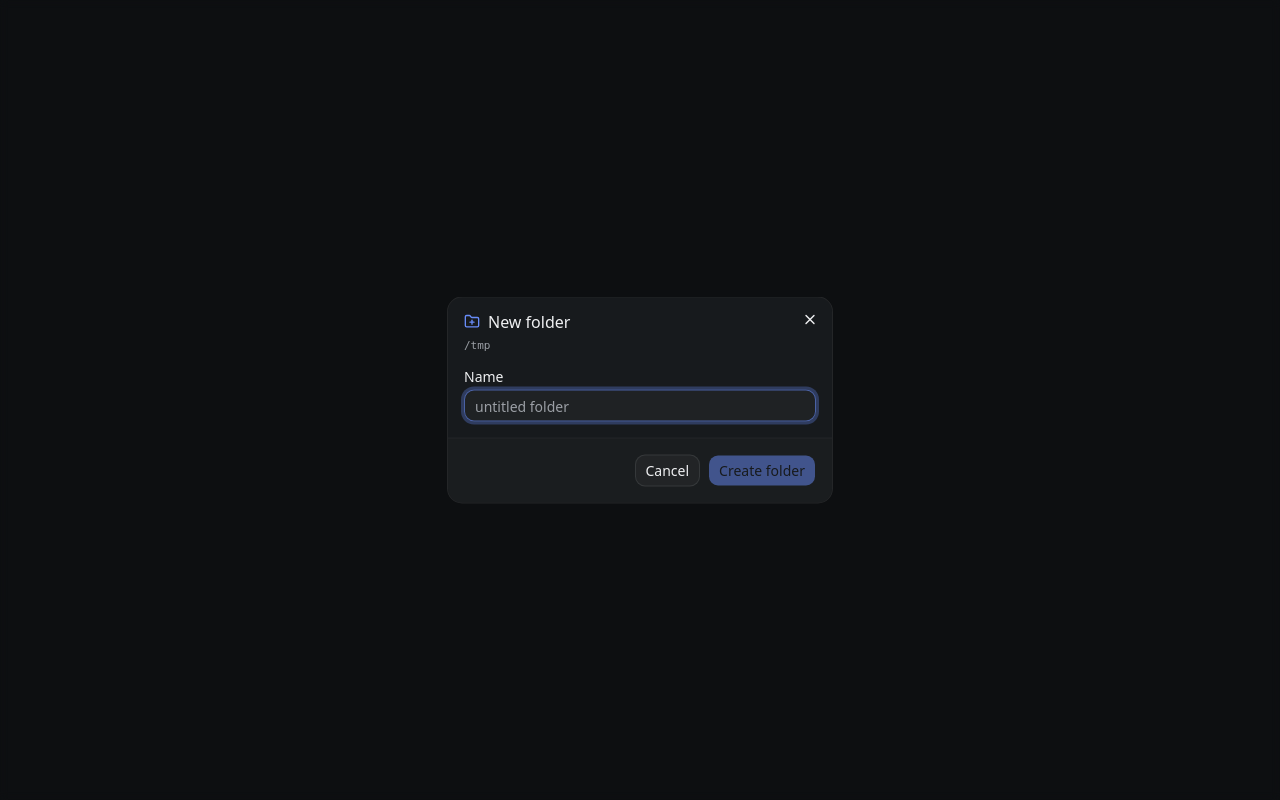
it: NewFolderDialog › shows a backend error and stays open
In the field labelled "Name": (640, 406) [464, 390, 816, 422], type "reports"
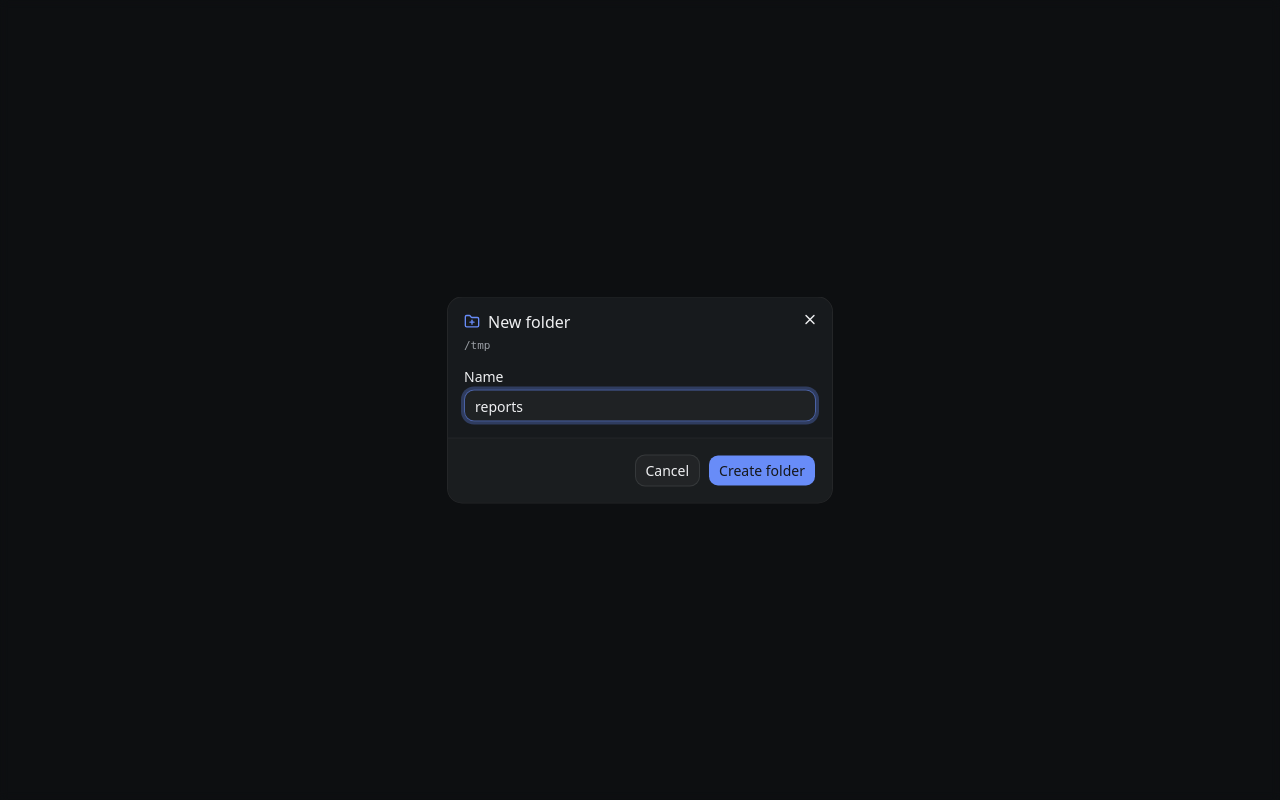
Click the button "Create folder": (762, 470) [708, 454, 816, 486]
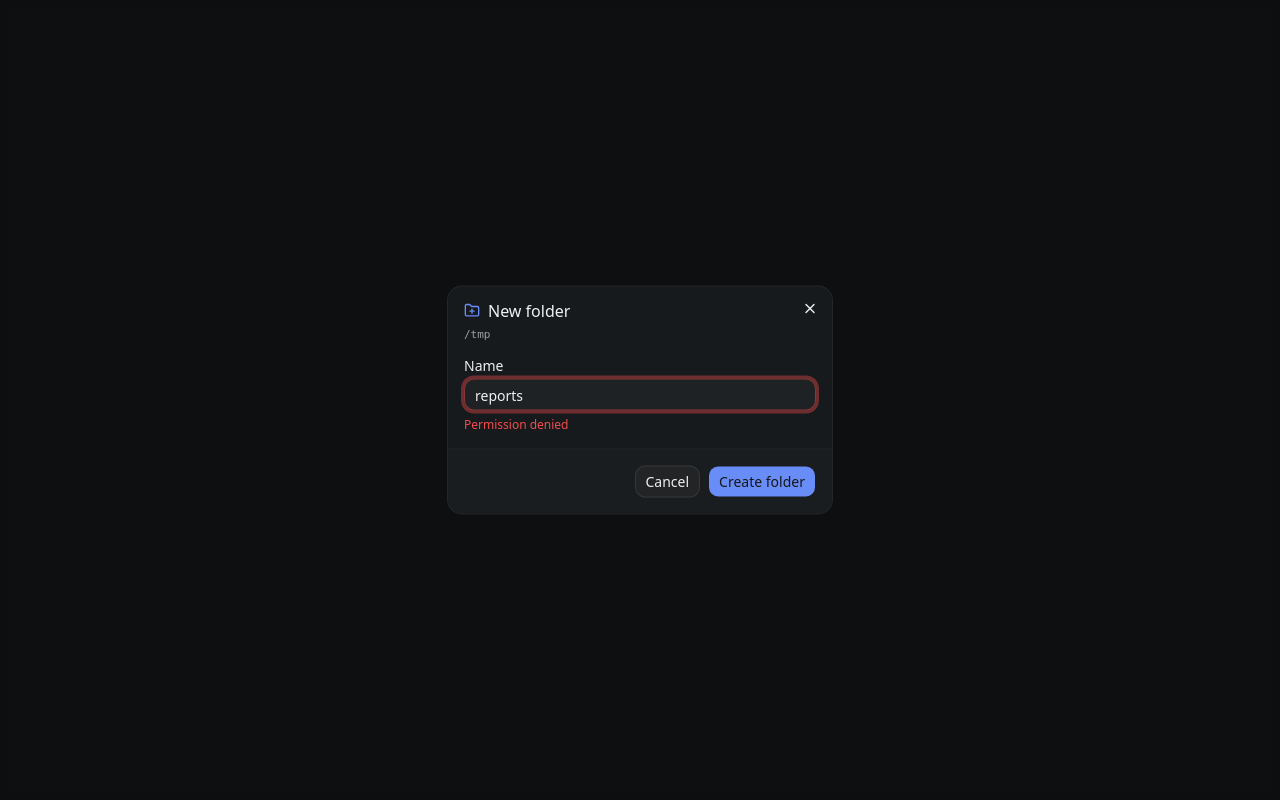
Now the message reads "Permission denied", box [464, 416, 568, 432]
